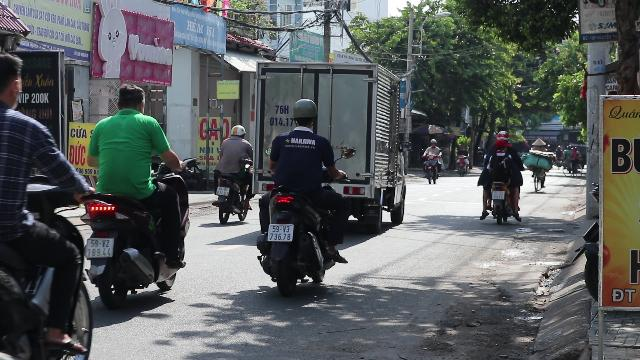helmet: (290, 98, 318, 128), (229, 124, 245, 138), (494, 130, 510, 140)
licenseplate: (85, 238, 113, 256), (268, 224, 292, 242), (215, 187, 229, 195), (492, 190, 504, 199)
motorcyclist: (1, 50, 101, 358), (79, 81, 193, 314), (254, 96, 348, 296), (476, 129, 524, 225), (210, 124, 254, 224)
nohelmet: (0, 53, 24, 108), (112, 83, 148, 115), (493, 138, 509, 154)
